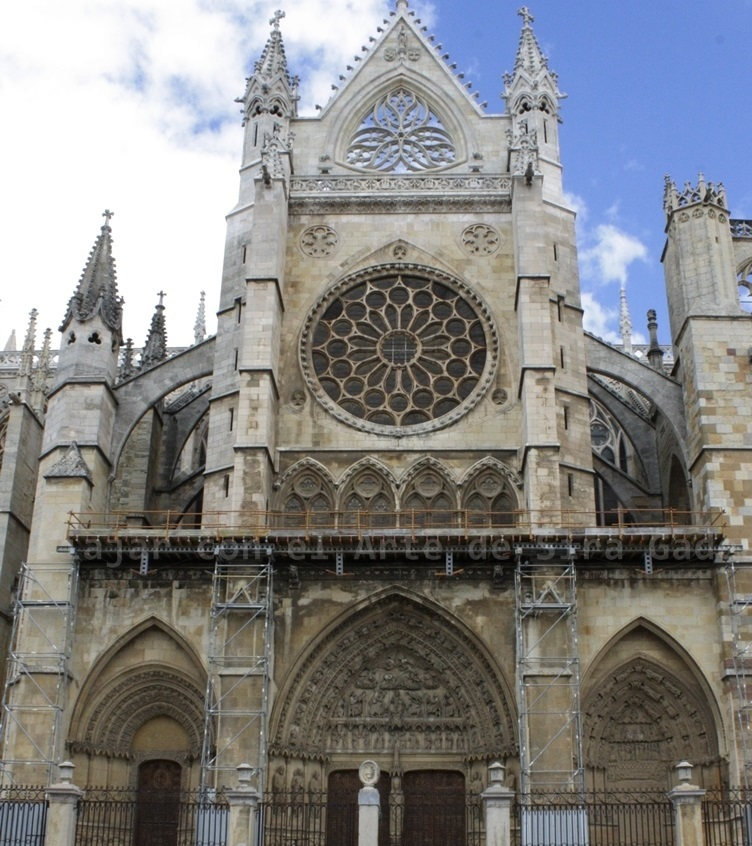arco-apuntado: (271, 583, 522, 759), (576, 614, 728, 756), (67, 614, 219, 751), (330, 66, 472, 160), (459, 454, 525, 505), (274, 454, 336, 507), (336, 456, 398, 506), (398, 454, 459, 504)
pinaculo-gotico: (60, 204, 125, 333), (243, 3, 303, 107), (499, 4, 562, 98), (140, 289, 172, 371)
